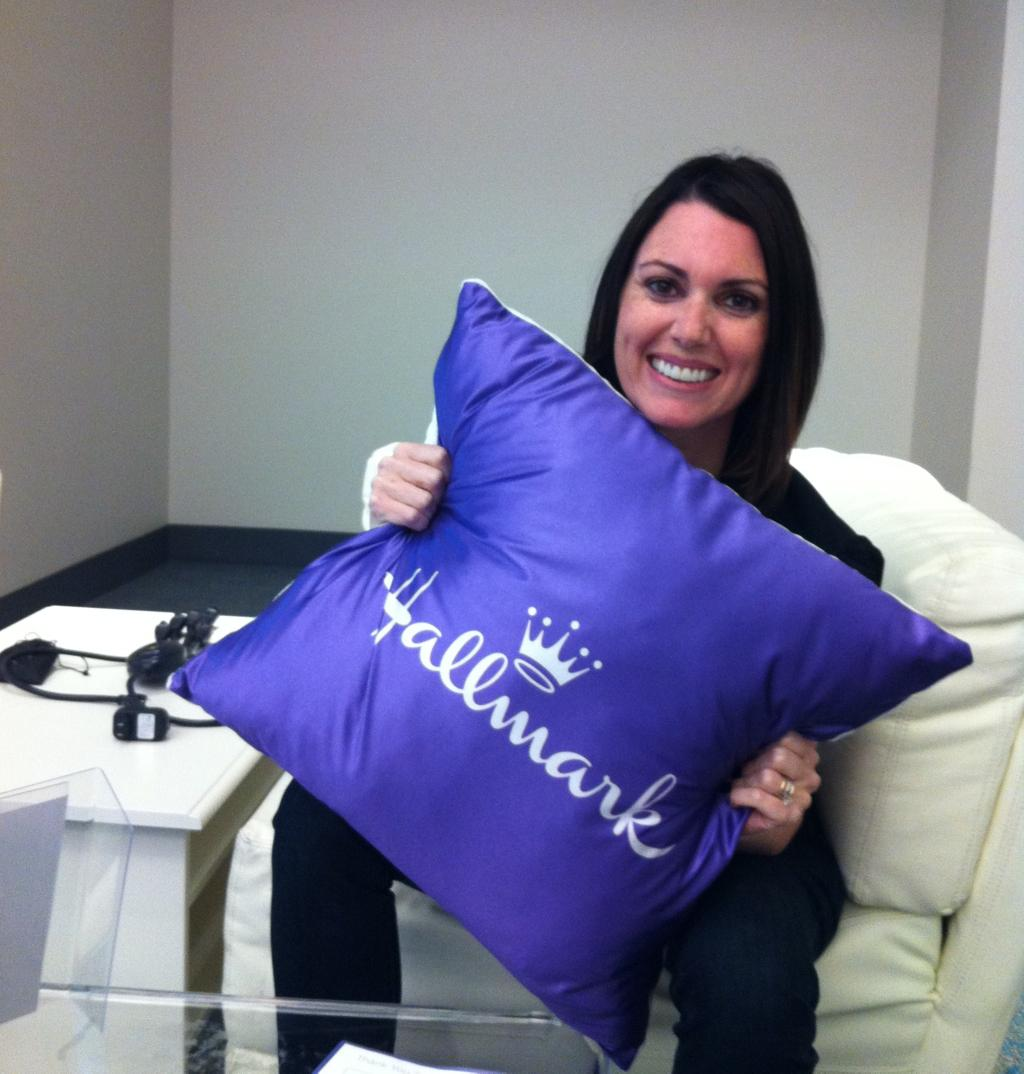face: (614, 197, 763, 423)
